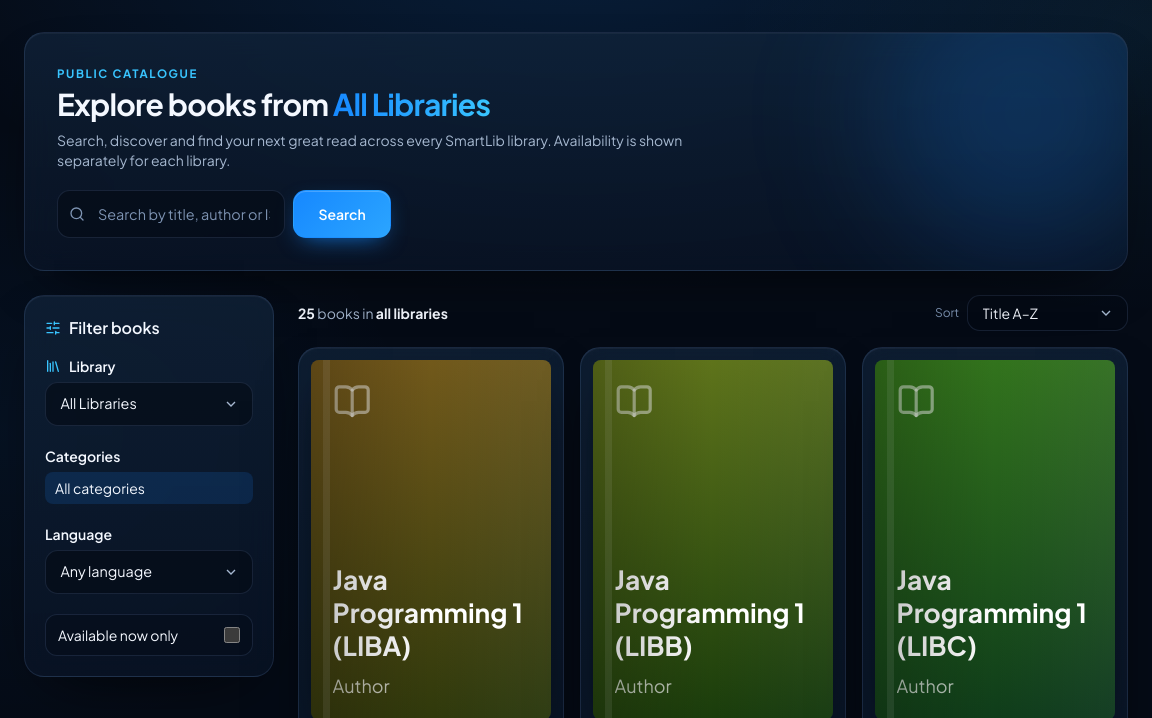
Scenario: Public catalogue (spec §79) › search spans all libraries, the library filter restricts, and clearing restores everything
The width and height of the screenshot is (1152, 718).
In the field labelled "Search by title, author or ISBN": (171, 214) [57,190,285,238], type "java"
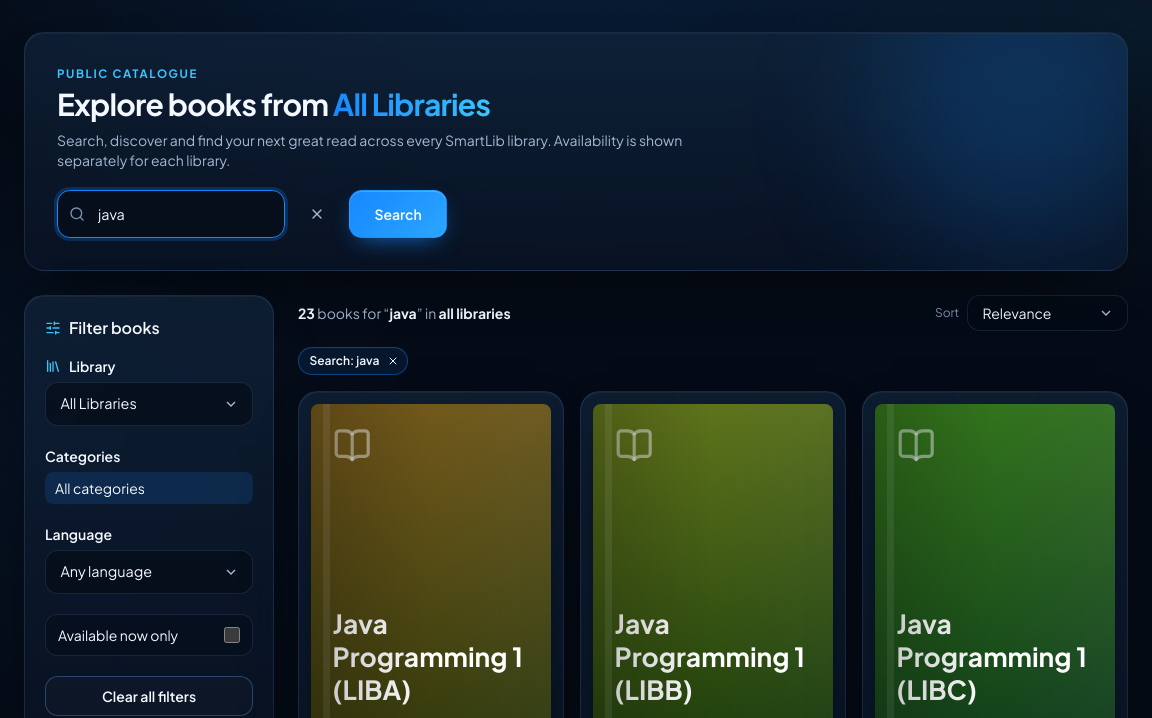
Check: the text "23" is shown, box [298,304,315,322]
Select "Library B" in the dropdown labelled "Library": (149, 404) [45,382,253,426]
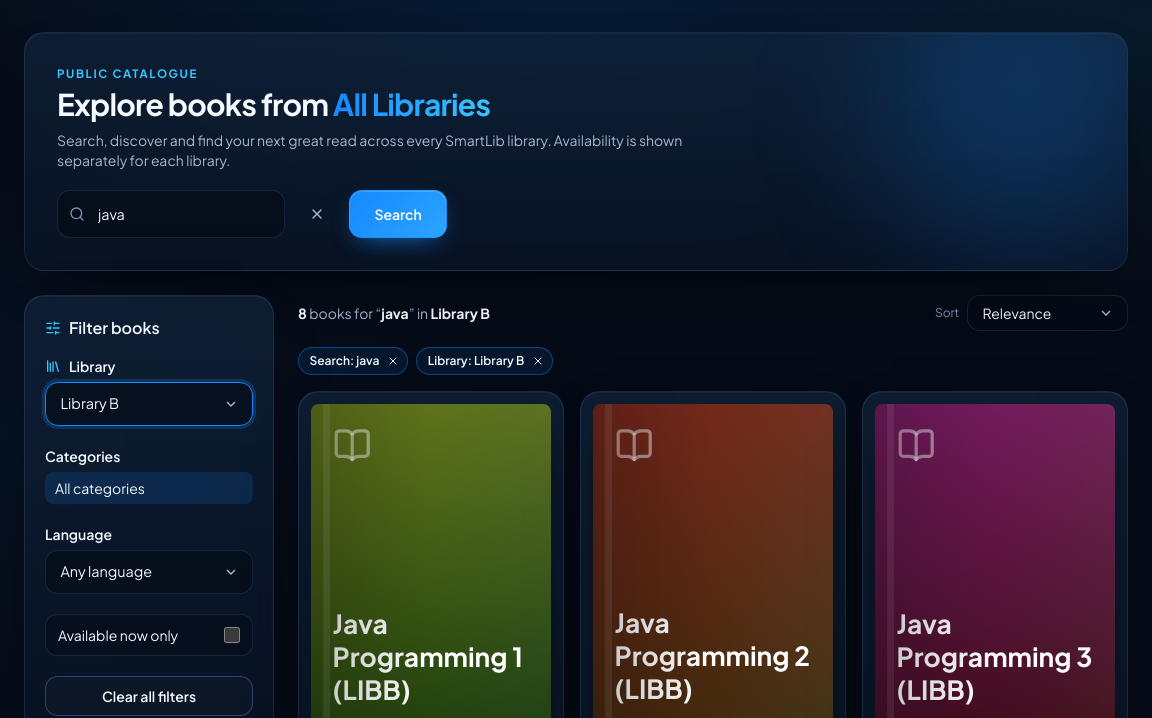
Check: the text "8" is shown, box [298,304,307,322]
Select "All Libraries" in the dropdown labelled "Library": (149, 404) [45,382,253,426]
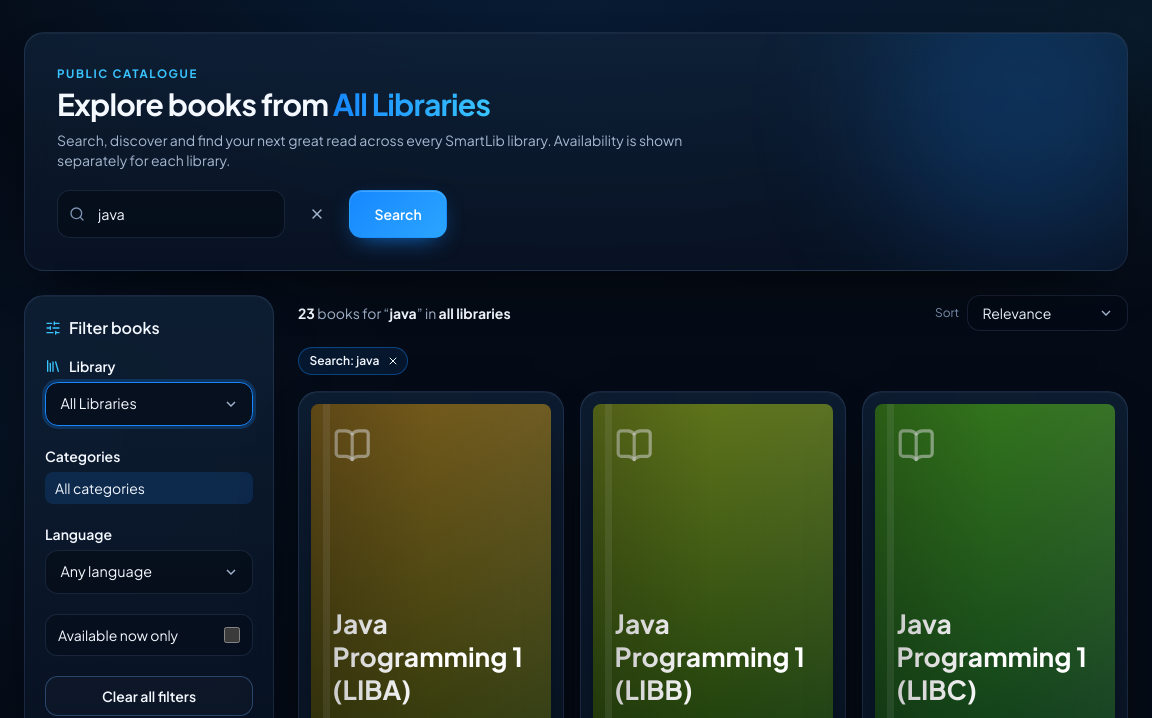
Check: the text "23" is shown, box [298,304,315,322]
Click the button named "Clear search": click(317, 214) [293,190,341,238]
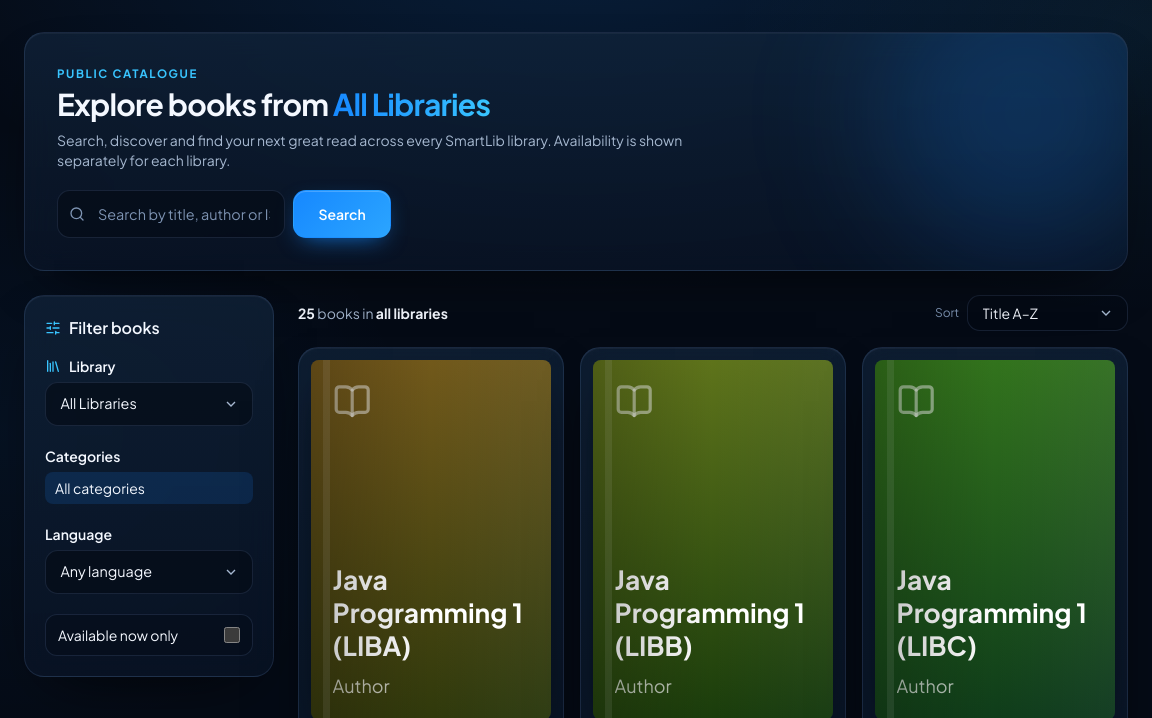
Check: the text "25" is shown, box [298,304,315,322]
